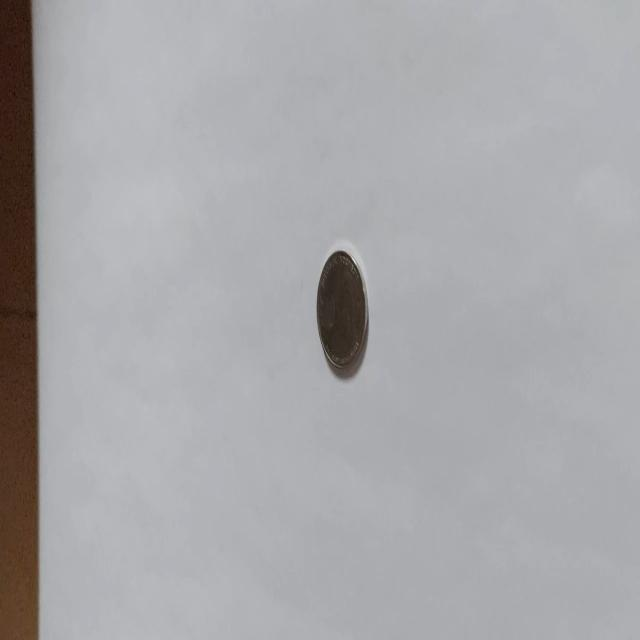seribu rupiah koin: (315, 245, 369, 374)
